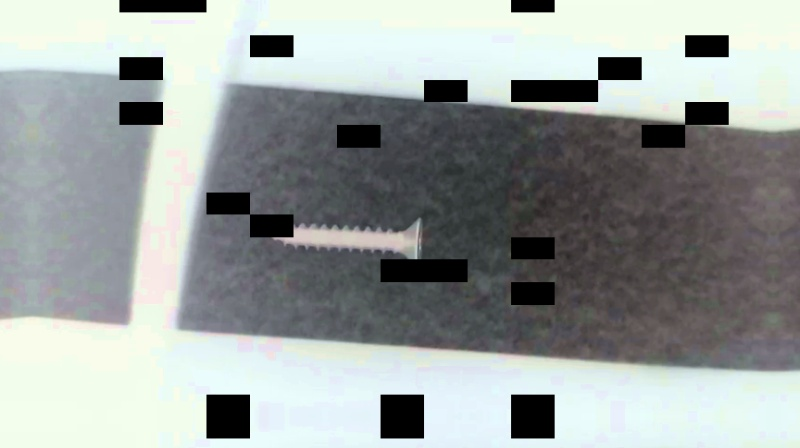S001: (263, 218, 426, 269)
